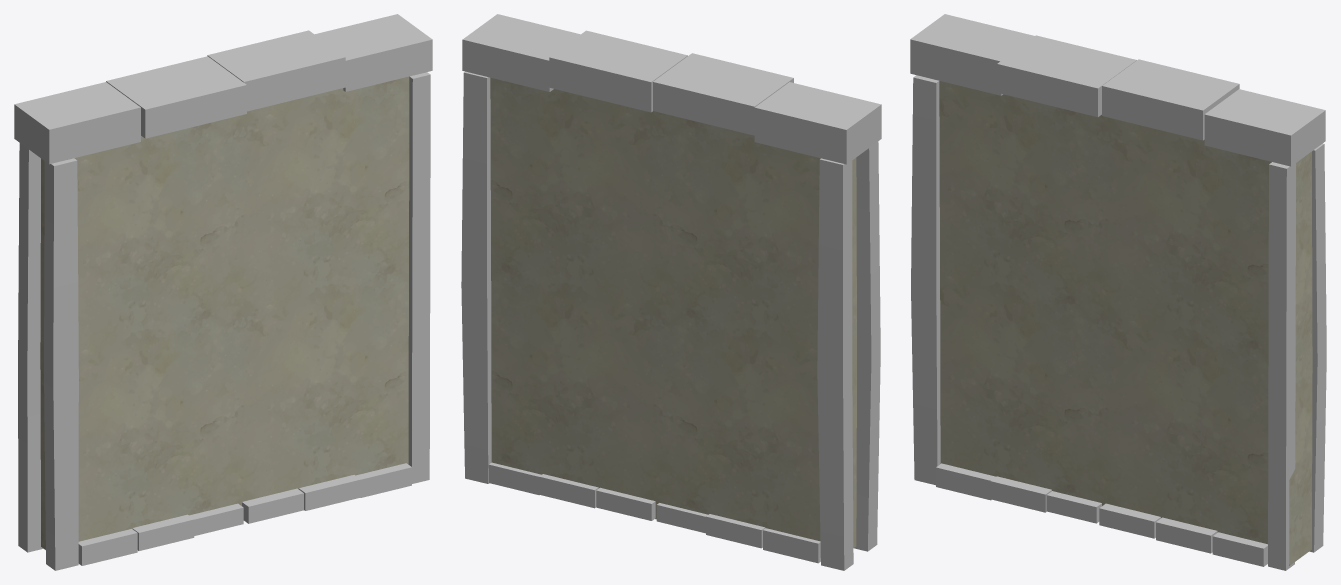
File: A_Wall_A.fbx
3 views of the same model, side by side, from view 1: azimuth 30°, elevation 25°; view 2: azimuth 150°, elevation 25°; view 3: azimuth 330°, elevation 25° (orthographic).
Parts seen in each view (by area): view 1: A_Wall_A, A_Wall_A_KitPart; view 2: A_Wall_A, A_Wall_A_KitPart; view 3: A_Wall_A, A_Wall_A_KitPart.
Boxes of the visible parts, x1,y1,x2,y2 form: A_Wall_A: (40, 76, 409, 549); A_Wall_A_KitPart: (14, 14, 432, 570); A_Wall_A: (490, 77, 856, 548); A_Wall_A_KitPart: (461, 14, 881, 570); A_Wall_A: (939, 81, 1312, 565); A_Wall_A_KitPart: (910, 14, 1326, 570).
Size of the model in its own units: 389 by 428 by 70.7.
